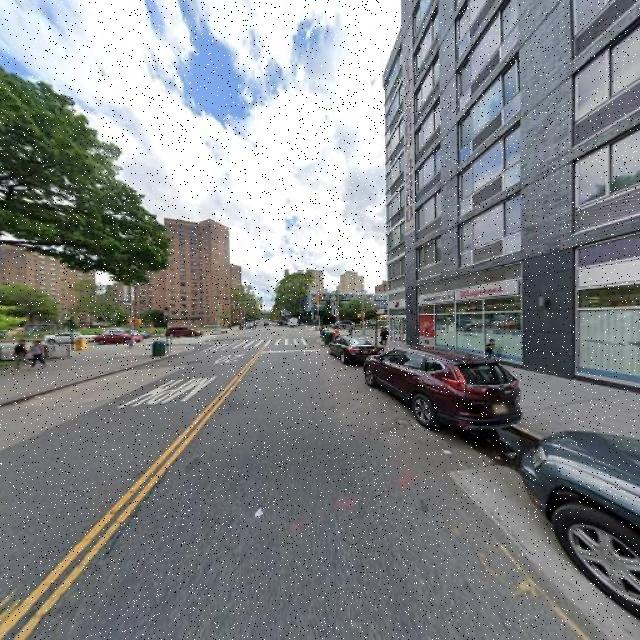Building: (389, 1, 640, 395), (165, 217, 210, 332), (307, 293, 380, 325)
